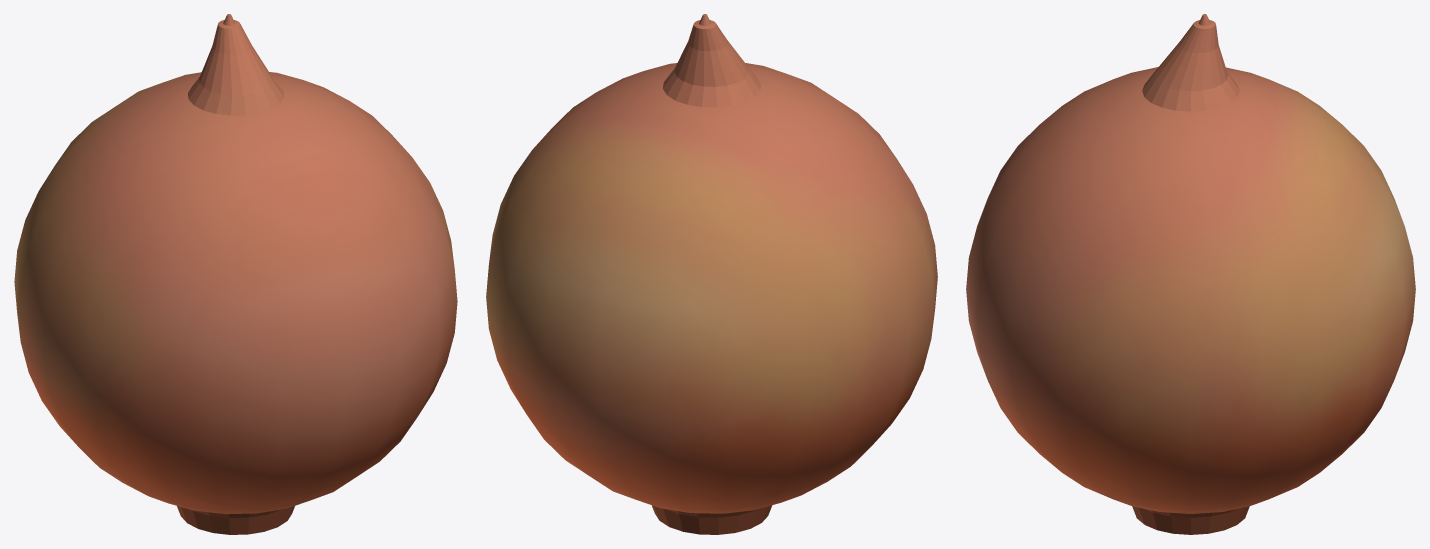
The model's file is Onion1-UV.fbx.
The picture shows the model from 3 angles, left to right: view 1: azimuth 30°, elevation 25°; view 2: azimuth 150°, elevation 25°; view 3: azimuth 270°, elevation 25°; orthographic projection.
Parts seen in each view (by area): view 1: pSphere1; view 2: pSphere1; view 3: pSphere1.
Part boxes in pixels (x1,y1,x2,y2): pSphere1: (14, 14, 457, 534); pSphere1: (486, 14, 937, 534); pSphere1: (966, 14, 1415, 534).
Size of the model in its own units: 4.4 by 5.44 by 4.4.
